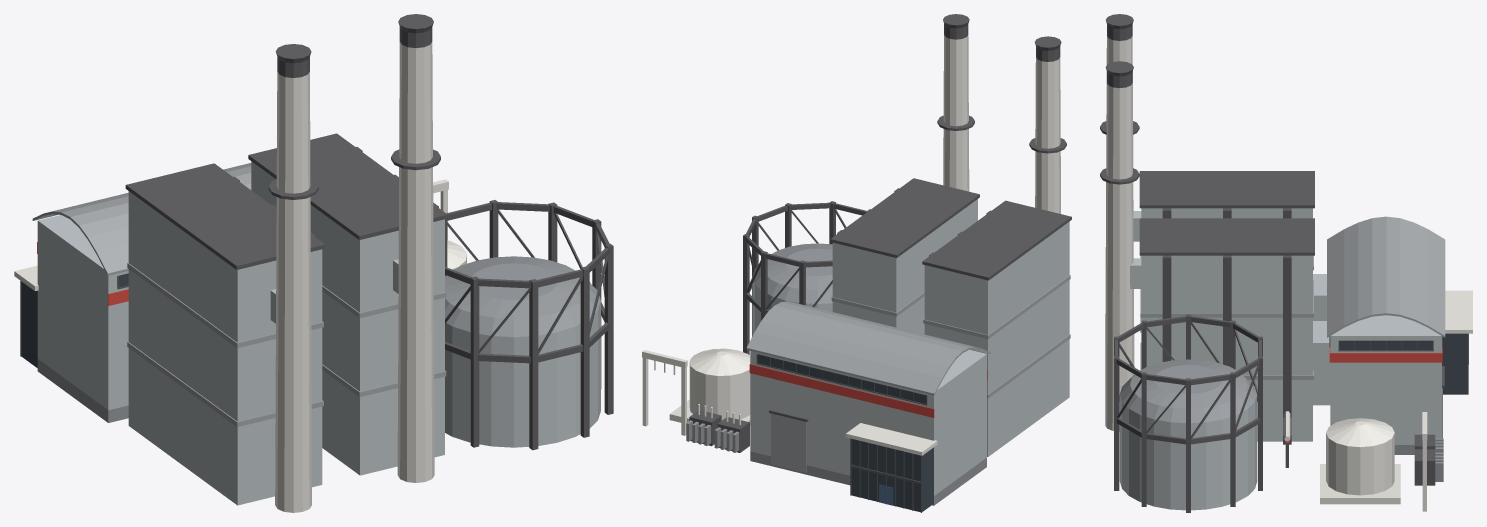
Rendered from gas_plant.glb.
3 renders of one model, left to right at view 1: azimuth 30°, elevation 25°; view 2: azimuth 150°, elevation 25°; view 3: azimuth 270°, elevation 25°, orthographic. The views are drawn at different scales.
Visible parts, largest first — view 1: gas_plant; view 2: gas_plant; view 3: gas_plant.
Part boxes in pixels (box(x1,y1,x2,y2)): gas_plant: box(14, 14, 613, 512); gas_plant: box(642, 14, 1071, 512); gas_plant: box(1100, 14, 1472, 512).
Size of the model in its own units: 43 by 46.3 by 43.4.
